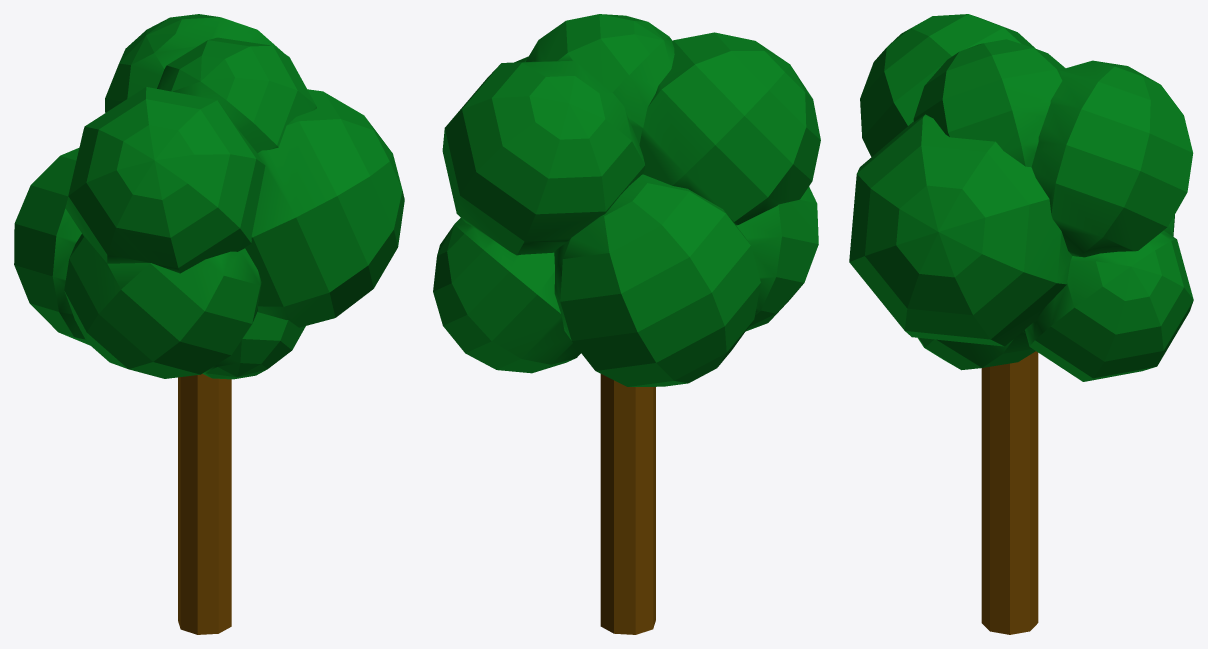
Rendered from Tree_v0002.fbx.
3 views of the same model, side by side, from view 1: azimuth 30°, elevation 25°; view 2: azimuth 150°, elevation 25°; view 3: azimuth 270°, elevation 25° (orthographic). The views are drawn at different scales.
Visible parts, largest first — view 1: pSphere7; view 2: pSphere7; view 3: pSphere7.
Part boxes in pixels (<box>): pSphere7: <box>14,14,404,634</box>; pSphere7: <box>433,14,820,634</box>; pSphere7: <box>849,14,1193,634</box>.
Bounding box in the file's own units: 324 × 571 × 304.
